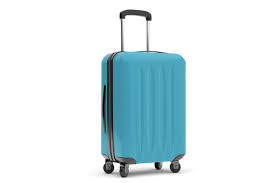suitcase: (97, 9, 191, 178)
